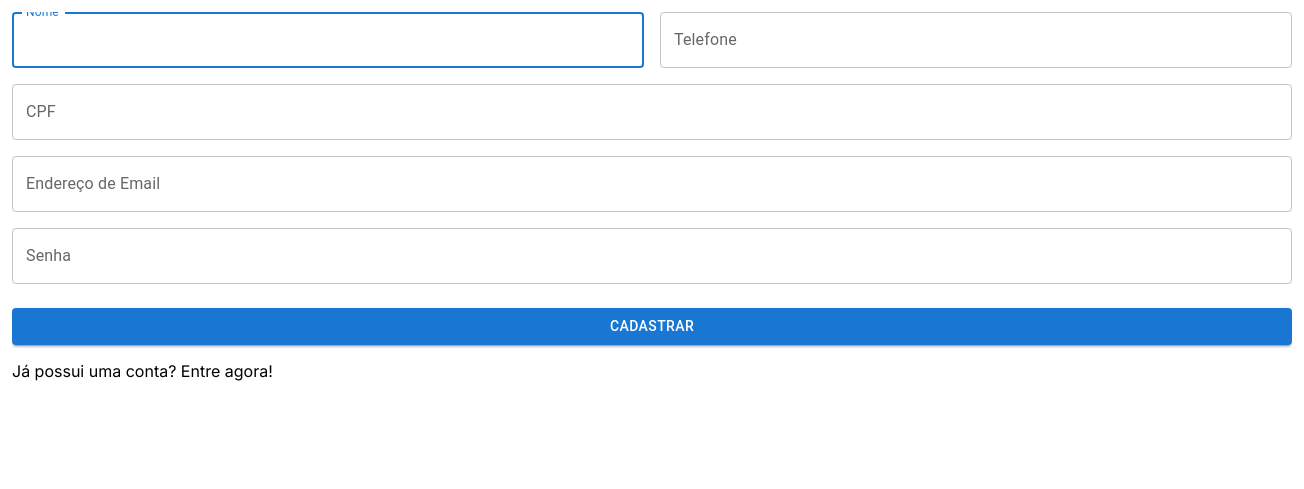
Test case: Teste do formulário de criação de usuário › deveria mostrar os erros do formulário de criação de usuário
Click the button "Cadastrar" at (652, 326), box x1=12 y1=308 x2=1292 y2=344
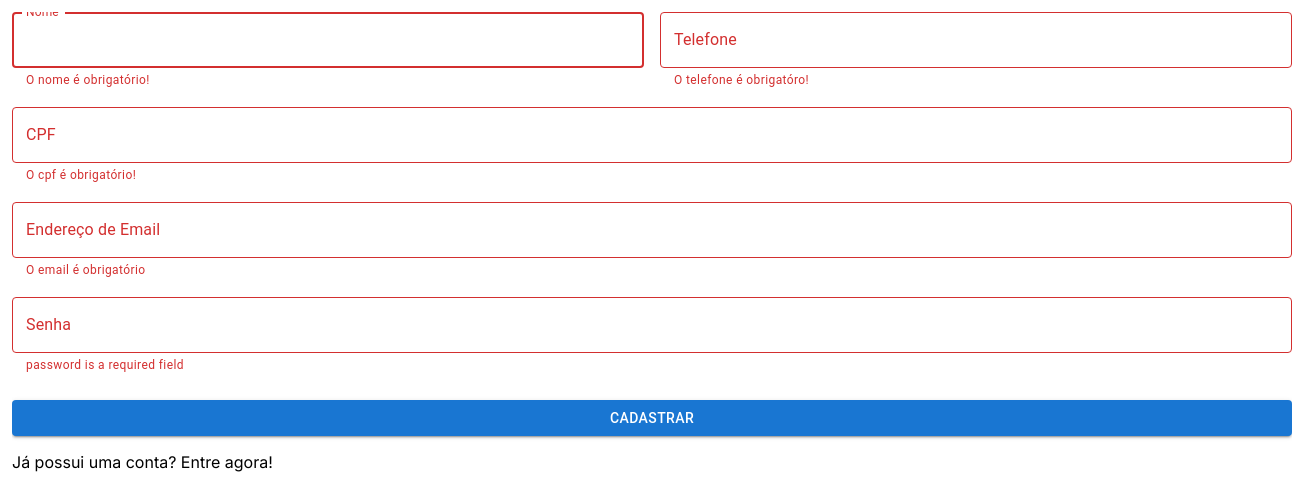
Result: the text "O nome é obrigatório!" is shown at x1=26 y1=73 x2=150 y2=87
Result: the text "O cpf é obrigatório!" is shown at x1=26 y1=168 x2=136 y2=182
Result: the text "O telefone é obrigatóro!" is shown at x1=674 y1=73 x2=809 y2=87
